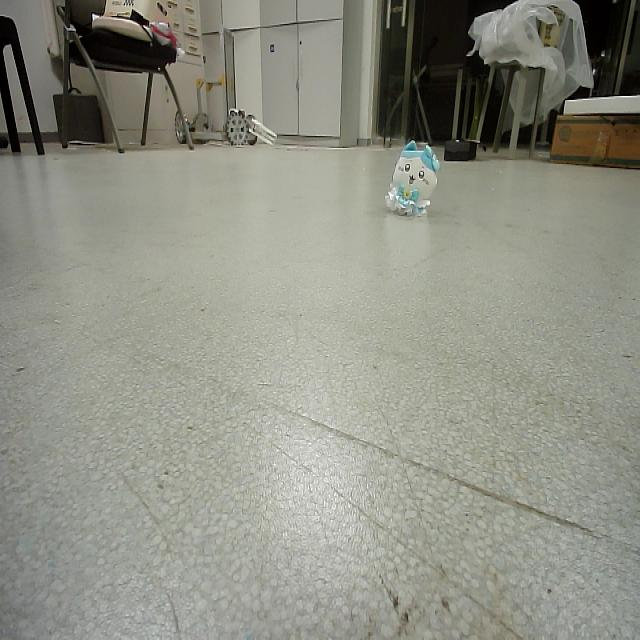xiaoba: (388, 138, 440, 215)
